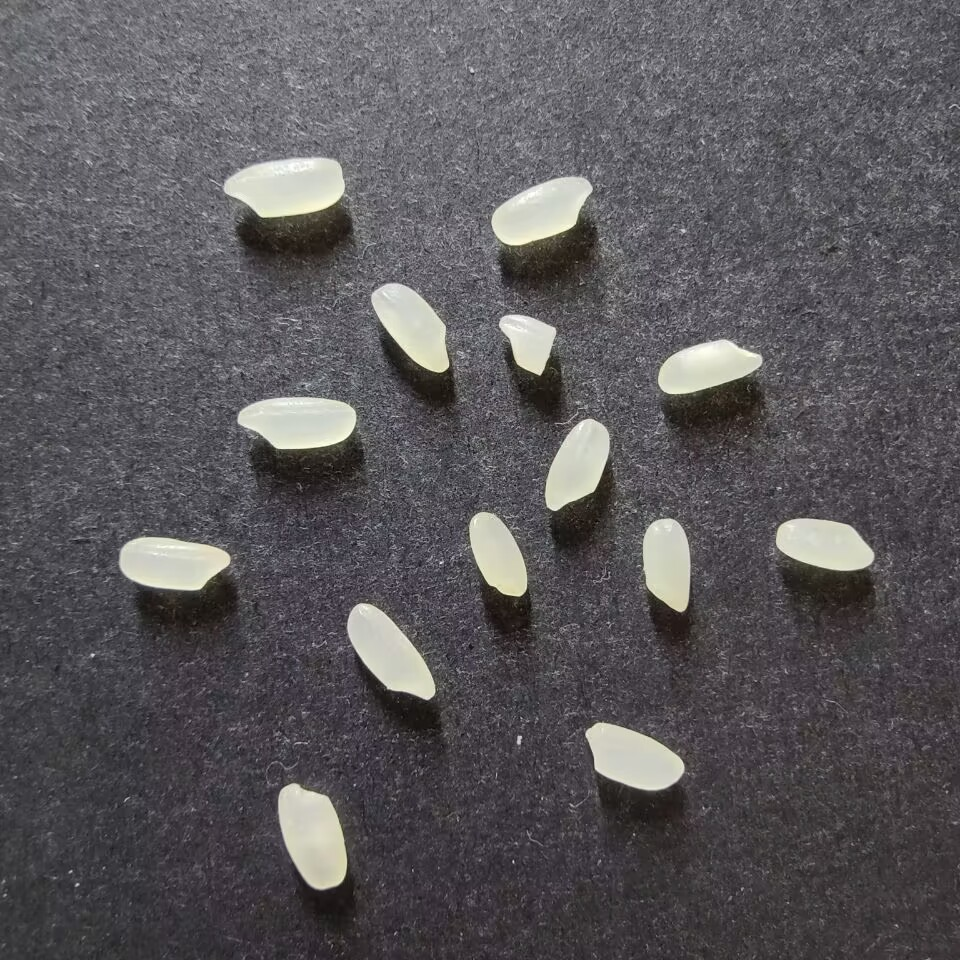broken: (497, 313, 557, 376)
rice: (346, 602, 437, 700), (222, 156, 345, 218), (276, 783, 347, 890), (489, 176, 593, 246), (370, 282, 450, 373), (584, 722, 685, 791), (236, 396, 356, 450), (543, 417, 610, 512), (118, 536, 231, 591), (657, 339, 762, 395), (775, 517, 875, 572), (468, 511, 528, 597), (641, 518, 691, 612)
